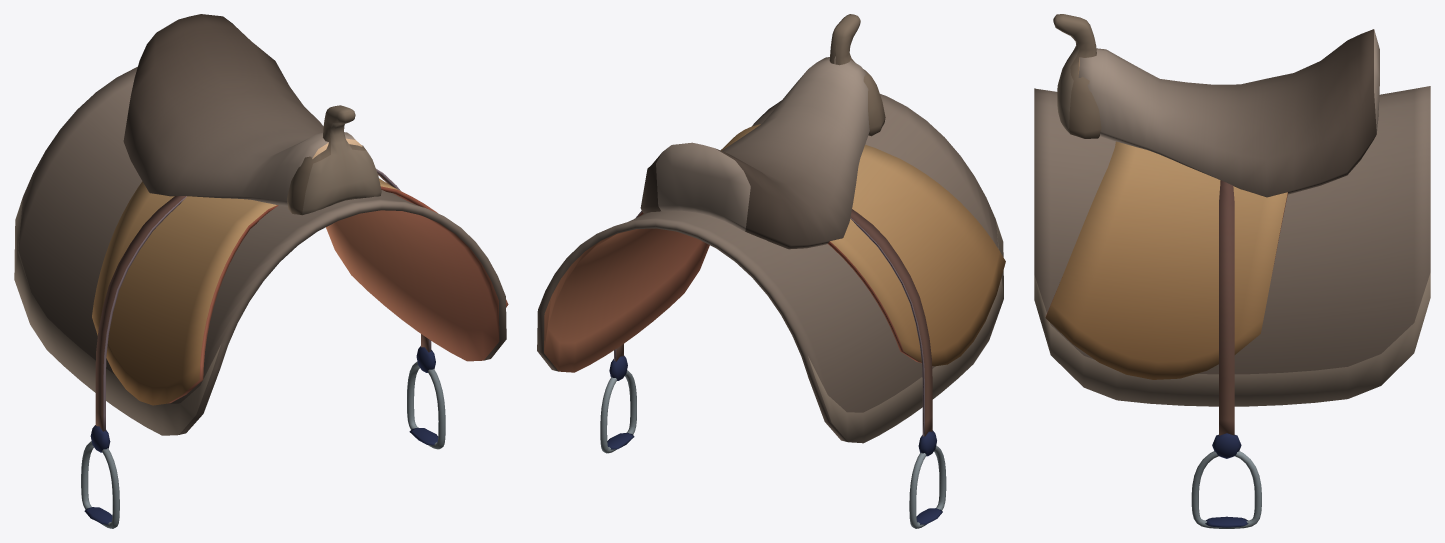
File: Saddle_Simple.glb
3 views of the same model, side by side, from view 1: azimuth 30°, elevation 25°; view 2: azimuth 150°, elevation 25°; view 3: azimuth 270°, elevation 25° (orthographic). The views are drawn at different scales.
Visible parts, largest first — view 1: Skirt, Seat, Jockey Seat, Stirrup, Horn; view 2: Skirt, Seat, Jockey Seat, Stirrup, Horn; view 3: Skirt, Jockey Seat, Seat, Stirrup, Horn.
Part boxes in pixels (x1=…): Skirt: x1=14, y1=66, x2=506, y2=435; Seat: x1=123, y1=14, x2=362, y2=206; Jockey Seat: x1=92, y1=178, x2=508, y2=405; Stirrup: x1=81, y1=169, x2=445, y2=528; Horn: x1=287, y1=105, x2=381, y2=215; Skirt: x1=537, y1=94, x2=1003, y2=443; Seat: x1=640, y1=56, x2=869, y2=249; Jockey Seat: x1=638, y1=124, x2=1005, y2=366; Stirrup: x1=600, y1=209, x2=946, y2=528; Horn: x1=829, y1=14, x2=885, y2=136; Skirt: x1=1034, y1=86, x2=1430, y2=406; Jockey Seat: x1=1045, y1=141, x2=1287, y2=379; Seat: x1=1078, y1=29, x2=1379, y2=197; Stirrup: x1=1191, y1=180, x2=1261, y2=528; Horn: x1=1053, y1=14, x2=1101, y2=138.
Bounding box in the file's own units: 0.7041 × 0.8442 × 0.7.
Materials: 1 (1 with a texture image).
